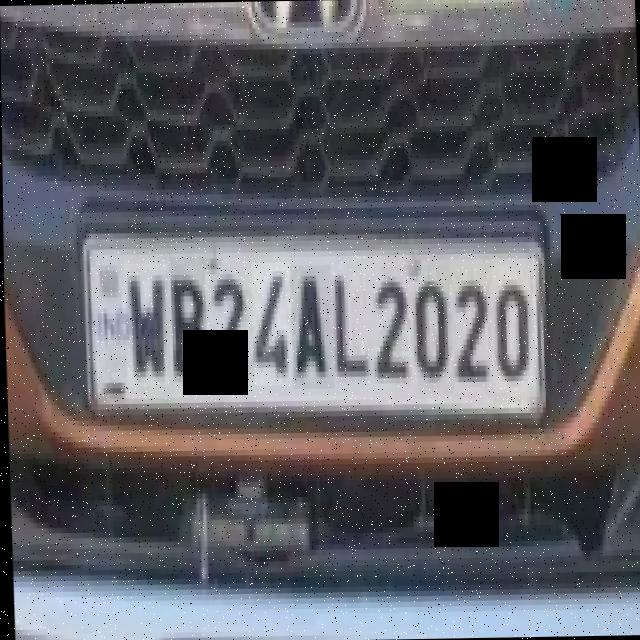0: (411, 254, 452, 394), (490, 263, 532, 392)
4: (250, 262, 293, 387)
A: (288, 265, 333, 390)
B: (168, 256, 206, 382)
L: (325, 261, 373, 394)
W: (122, 263, 167, 387)
